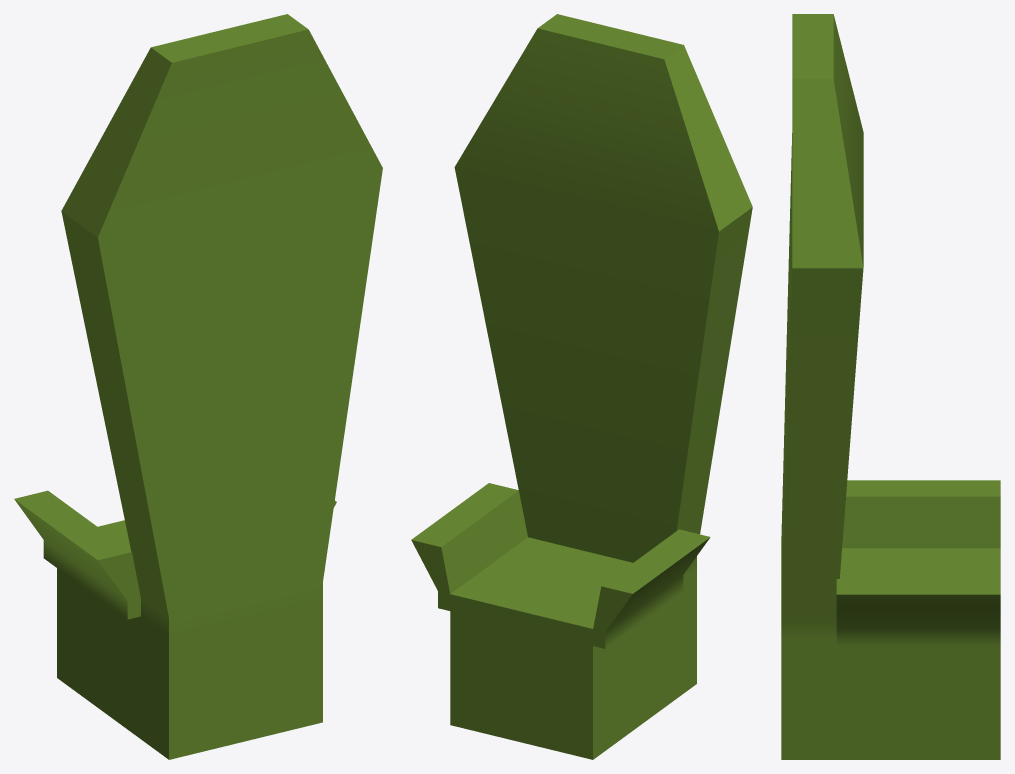
Rendered from trone1_pregraph.fbx.
3 renders of one model, left to right at view 1: azimuth 30°, elevation 25°; view 2: azimuth 150°, elevation 25°; view 3: azimuth 270°, elevation 25°, orthographic. The views are drawn at different scales.
Visible parts, largest first — view 1: trone; view 2: trone; view 3: trone.
Boxes of the visible parts, x1,y1,x2,y2 form: trone: (14, 14, 382, 759); trone: (411, 14, 752, 759); trone: (781, 14, 1000, 759).
Size of the model in its own units: 29.59 by 68.51 by 20.16.
